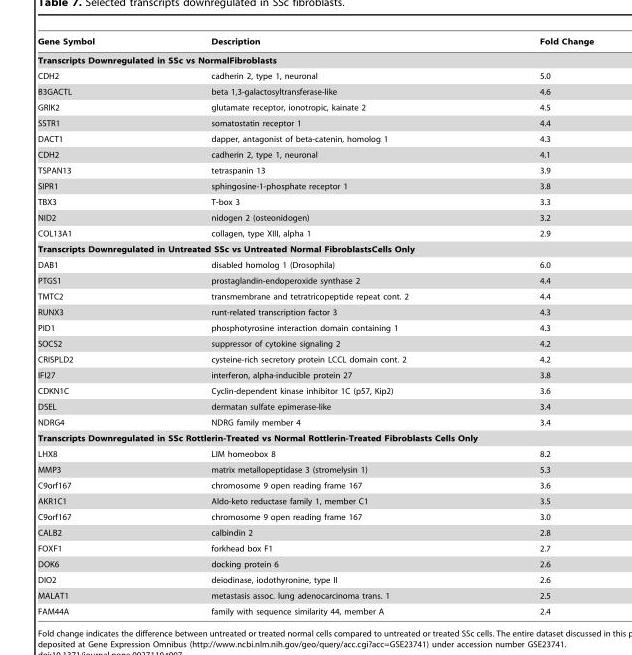table: (37, 36, 593, 615)
table column: (152, 36, 473, 615), (473, 36, 593, 615), (37, 36, 152, 615)
table column header: (37, 36, 593, 50)
table projected row header: (37, 50, 593, 67), (37, 241, 593, 256), (37, 430, 593, 445)
table row: (37, 50, 593, 67), (37, 67, 593, 83), (37, 83, 593, 99), (37, 99, 593, 115), (37, 130, 593, 146), (37, 146, 593, 162), (37, 162, 593, 178), (37, 193, 593, 209), (37, 209, 593, 225), (37, 225, 593, 241), (37, 256, 593, 272), (37, 272, 593, 288), (37, 288, 593, 304), (37, 319, 593, 335), (37, 335, 593, 351), (37, 351, 593, 367), (37, 382, 593, 398), (37, 398, 593, 414), (37, 414, 593, 430), (37, 445, 593, 461), (37, 461, 593, 477), (37, 477, 593, 493), (37, 508, 593, 524), (37, 524, 593, 540), (37, 540, 593, 556), (37, 571, 593, 587), (37, 587, 593, 603), (37, 115, 593, 130), (37, 178, 593, 193), (37, 241, 593, 256), (37, 304, 593, 319), (37, 367, 593, 382), (37, 430, 593, 445), (37, 493, 593, 508), (37, 556, 593, 571), (37, 36, 593, 50), (37, 603, 593, 615)
